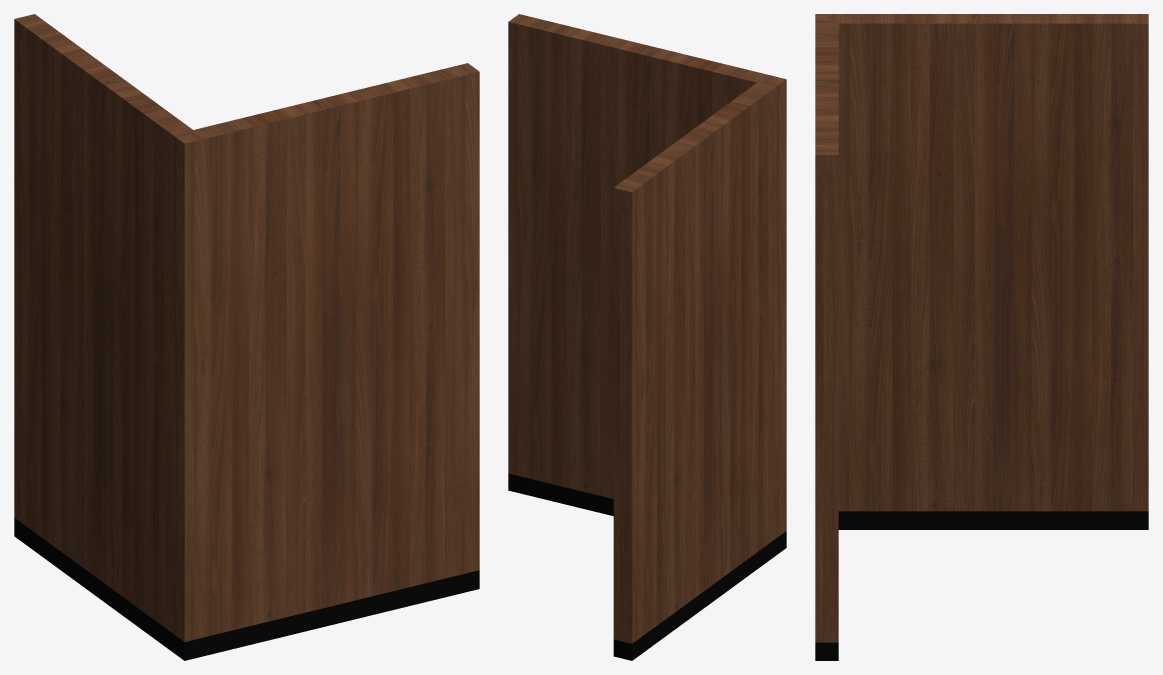
The model's file is ARC0210024.fbx.
3 views of the same model, side by side, from view 1: azimuth 30°, elevation 25°; view 2: azimuth 150°, elevation 25°; view 3: azimuth 270°, elevation 25° (orthographic). The views are drawn at different scales.
Visible parts, largest first — view 1: smARC0210024; view 2: smARC0210024; view 3: smARC0210024.
Part boxes in pixels (x1,y1,x2,y2): smARC0210024: (14,14,479,660); smARC0210024: (508,14,786,660); smARC0210024: (815,14,1148,660).
Bounding box in the file's own units: 196 × 328 × 196.
1 material, 1 textured.
